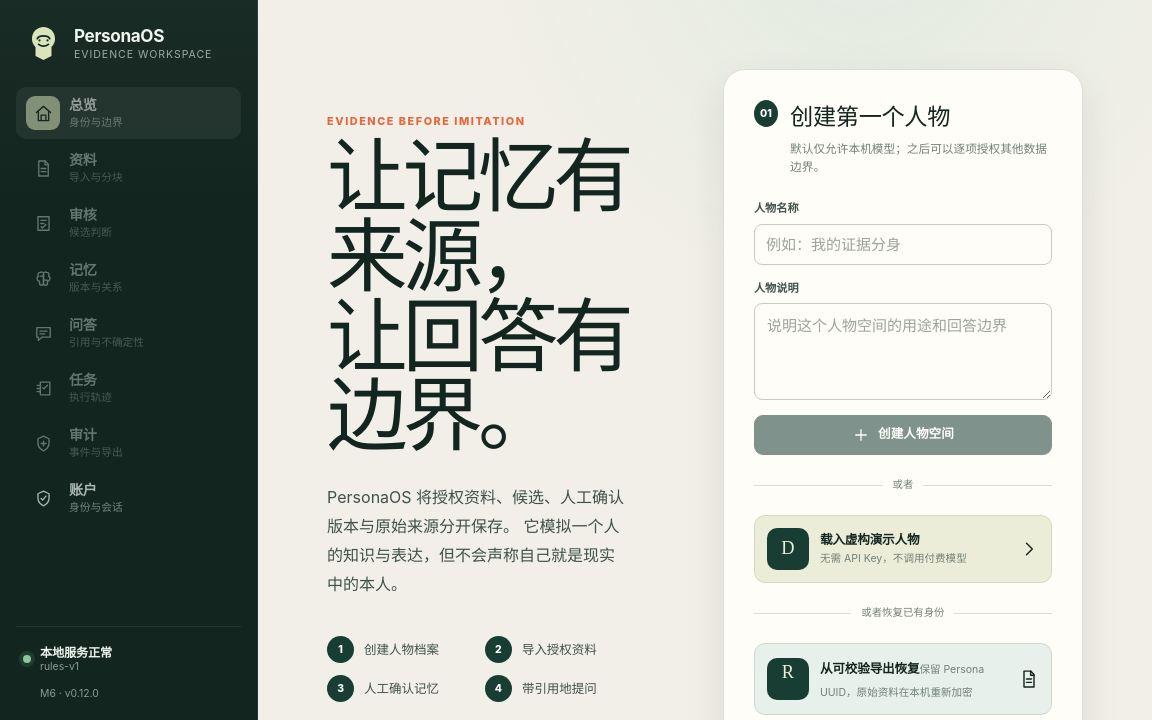
PersonaOS Web › creates the first persona and opens its evidence workspace
Expected: the heading "让记忆有来源，让回答有边界。" is shown, [327,138,631,457]
Type "我的分身" into the field labelled "人物名称" at (903, 244), box [754,224,1052,265]
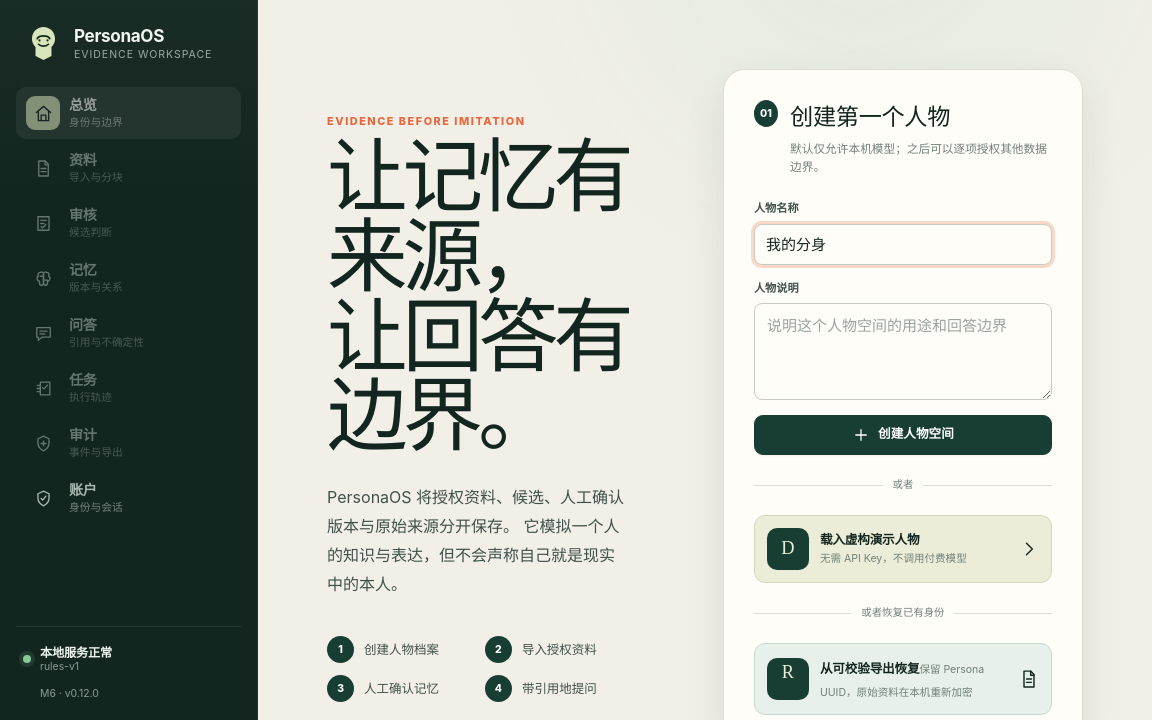
Type "测试边界" into the text box labelled "人物说明" at (903, 351), box [754,303,1052,400]
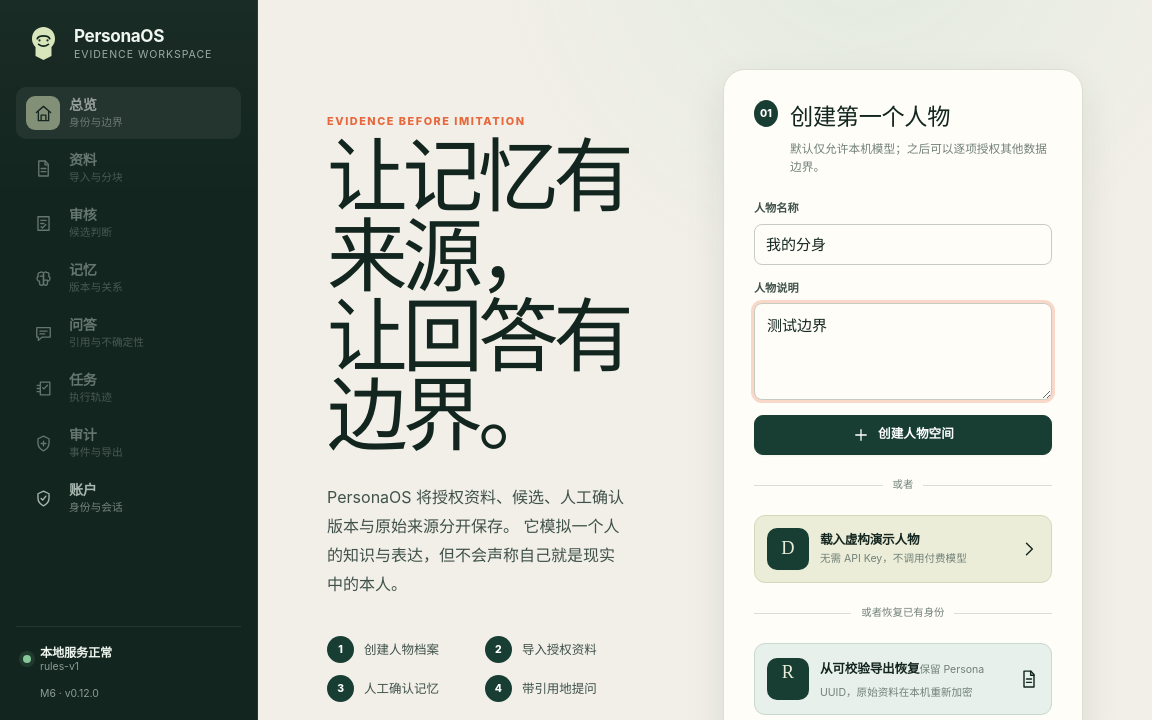
Click the button "创建人物空间" at (903, 434), box [754,414,1052,454]
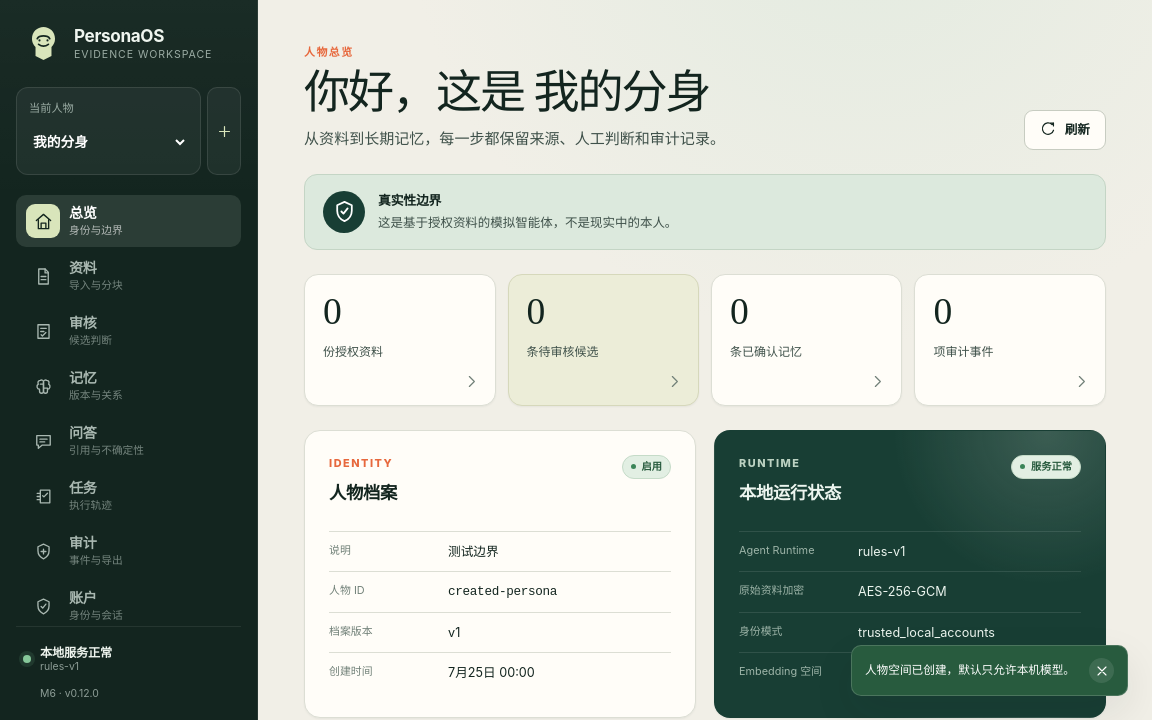
Now the heading "你好，这是 我的分身" is shown, box [304,69,725,118]
Now the text "这是基于授权资料的模拟智能体，不是现实中的本人。" is shown, box [378,213,677,232]
